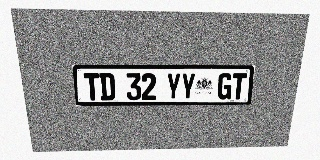2: (141, 73, 156, 100)
3: (126, 73, 141, 100)
D: (99, 73, 115, 100)
G: (217, 73, 233, 99)
T: (83, 73, 100, 100), (231, 73, 247, 99)
Y: (166, 73, 181, 100), (181, 73, 196, 100)
